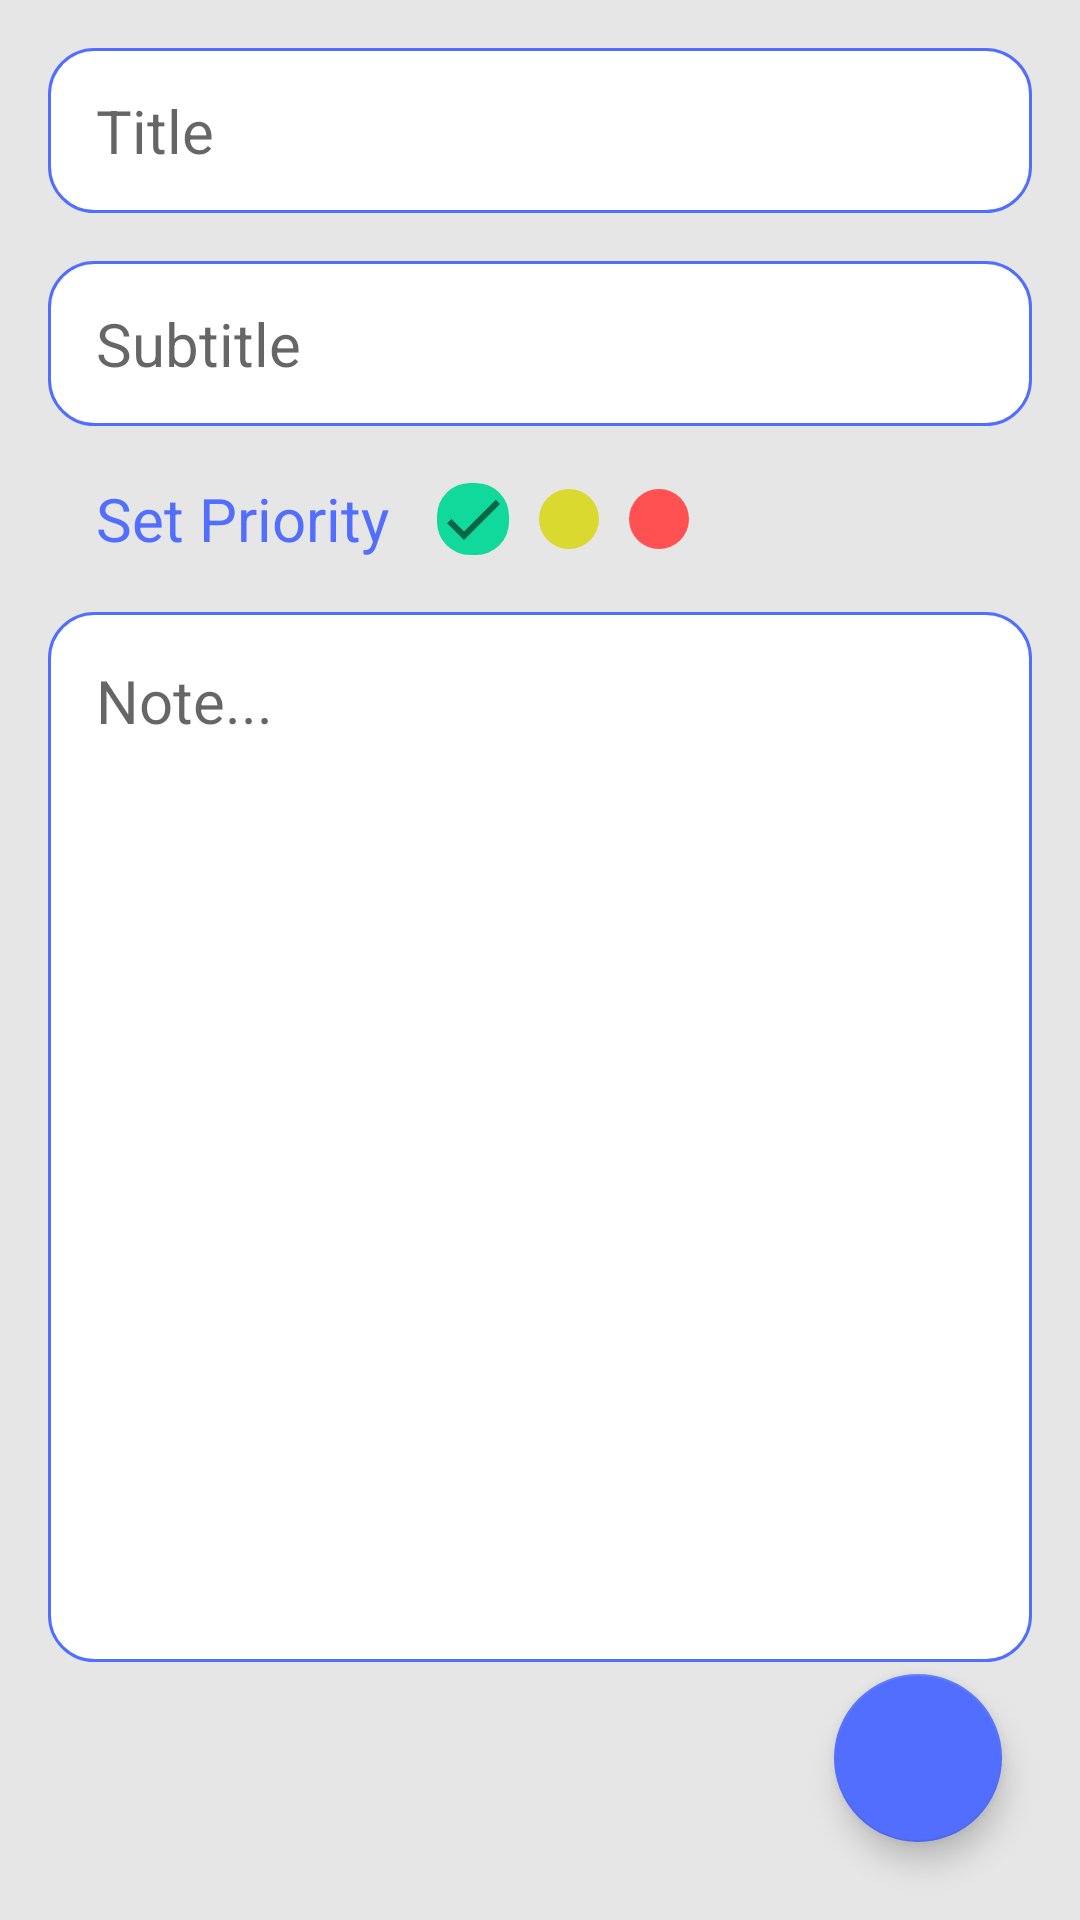

Icon bounding boxes for this 1080 x 1920 phone screenshot, format (x1, y1, x2, y2):
done: (437, 483, 509, 555)
